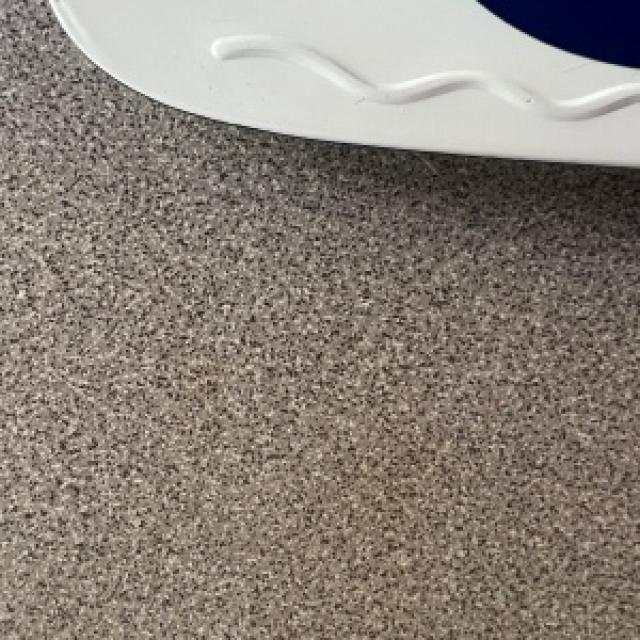healthy: (49, 0, 638, 164)
